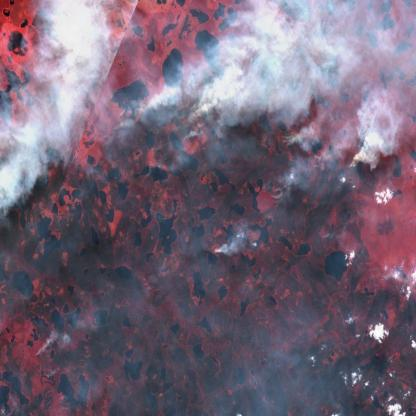fire: (122, 92, 310, 156), (340, 136, 382, 178), (203, 226, 250, 263)
